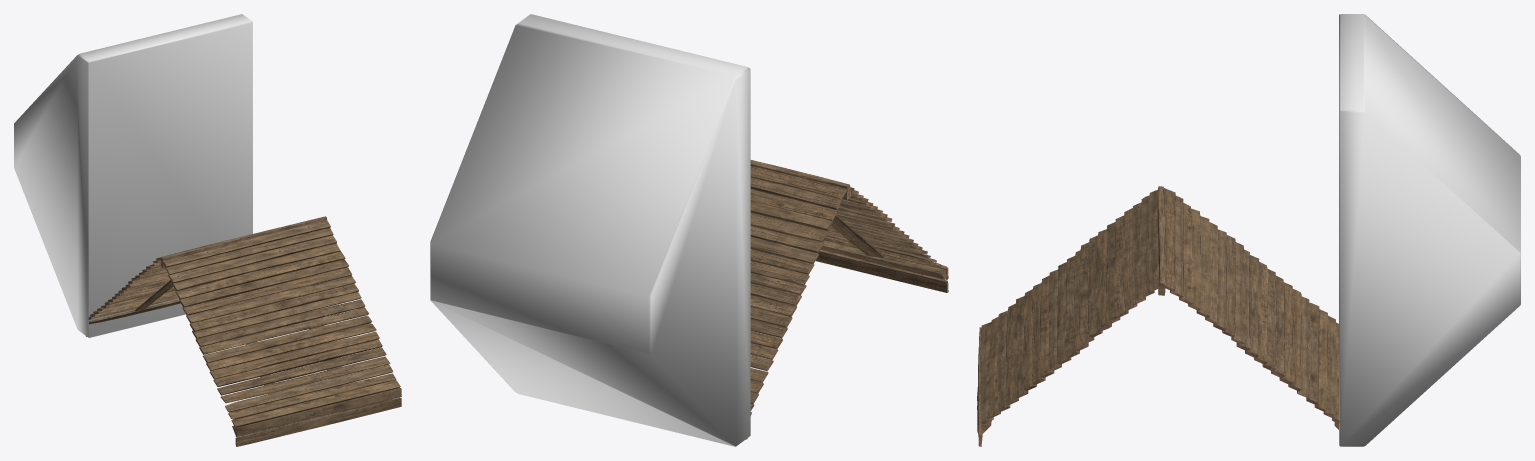
The model's file is SM_Roof_Main_A.fbx.
The picture shows the model from 3 angles, left to right: view 1: azimuth 30°, elevation 25°; view 2: azimuth 150°, elevation 25°; view 3: azimuth 270°, elevation 25°; orthographic projection. The views are drawn at different scales.
Parts seen in each view (by area): view 1: SM_Roof_Main_A_ConvexHulls, SM_Roof_Main_A; view 2: SM_Roof_Main_A_ConvexHulls, SM_Roof_Main_A; view 3: SM_Roof_Main_A_ConvexHulls, SM_Roof_Main_A.
Part boxes in pixels (x1,y1,x2,y2): SM_Roof_Main_A_ConvexHulls: (14, 14, 252, 337); SM_Roof_Main_A: (86, 216, 401, 446); SM_Roof_Main_A_ConvexHulls: (430, 14, 750, 446); SM_Roof_Main_A: (746, 160, 948, 439); SM_Roof_Main_A_ConvexHulls: (1339, 14, 1520, 446); SM_Roof_Main_A: (977, 186, 1339, 446).
Size of the model in its own units: 7.69 by 12.35 by 18.06.
